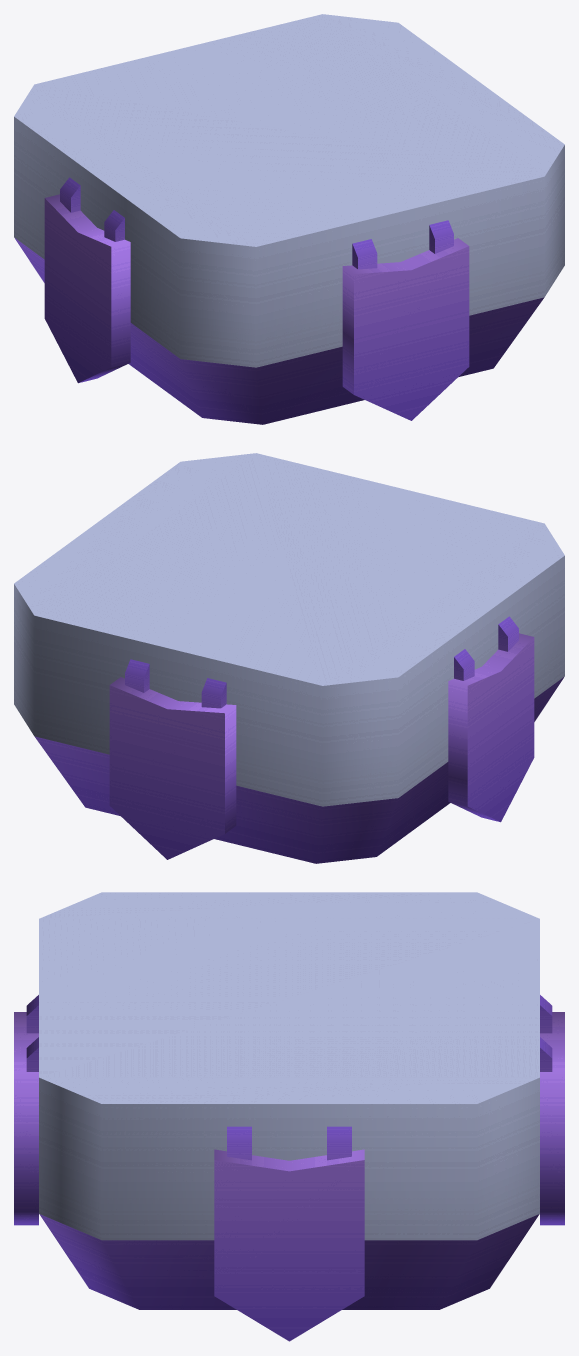
The model's file is tower-square-middle-a.glb.
3 views of the same model, one above another, from view 1: azimuth 30°, elevation 25°; view 2: azimuth 150°, elevation 25°; view 3: azimuth 270°, elevation 25° (orthographic). The views are drawn at different scales.
Visible parts, largest first — view 1: tower-square-middle-a; view 2: tower-square-middle-a; view 3: tower-square-middle-a.
Boxes of the visible parts, bbox=[...] form: tower-square-middle-a: bbox=[14, 14, 564, 424]; tower-square-middle-a: bbox=[14, 453, 564, 863]; tower-square-middle-a: bbox=[14, 892, 564, 1341].
Size of the model in its own units: 1.1 by 0.5 by 1.1.
1 material, 1 textured.
